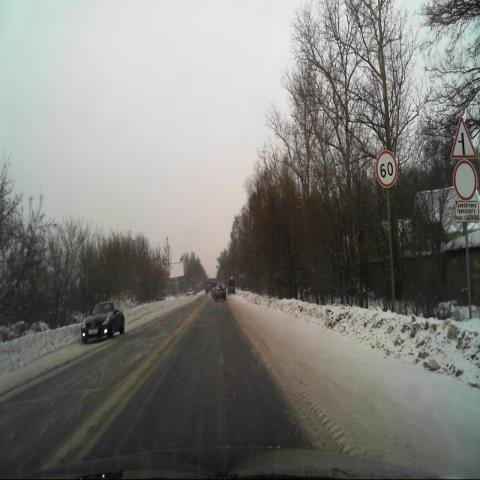3_2: (454, 160, 476, 200)
